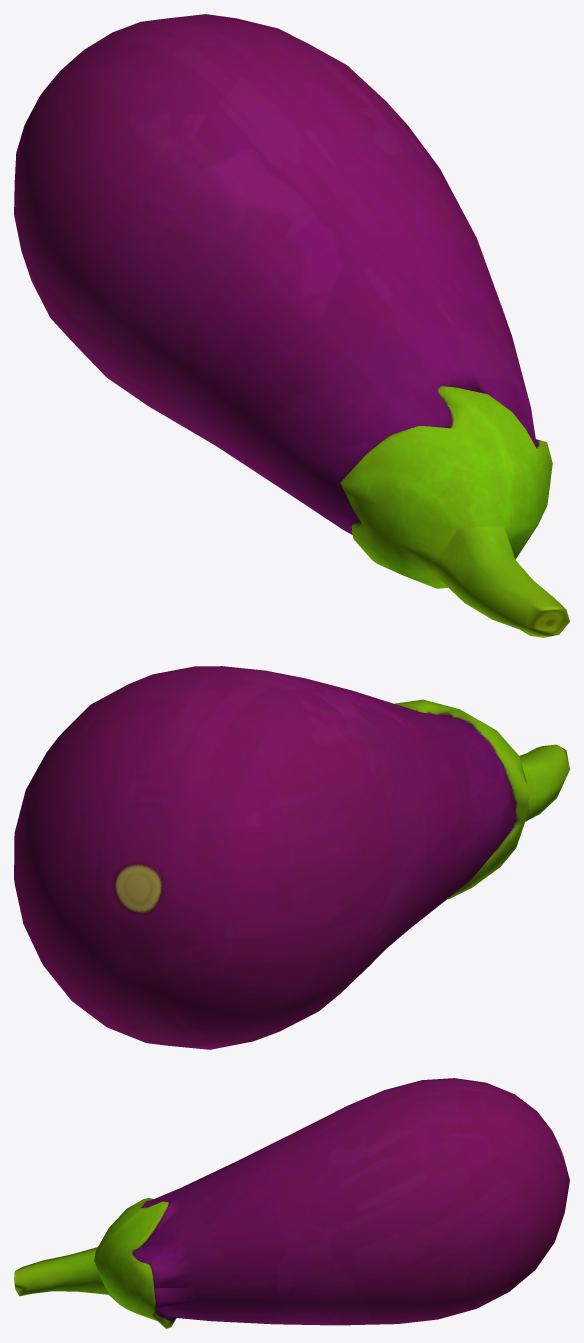
File: Eggplant.fbx
3 renders of one model, top to bottom at view 1: azimuth 30°, elevation 25°; view 2: azimuth 150°, elevation 25°; view 3: azimuth 270°, elevation 25°, orthographic. The views are drawn at different scales.
Parts seen in each view (by area): view 1: Eggplant; view 2: Eggplant; view 3: Eggplant.
Boxes of the visible parts, x1,y1,x2,y2 form: Eggplant: (14,14,569,637); Eggplant: (14,666,569,1049); Eggplant: (14,1078,569,1328).
Size of the model in its own units: 3.04 by 3.07 by 6.89.
